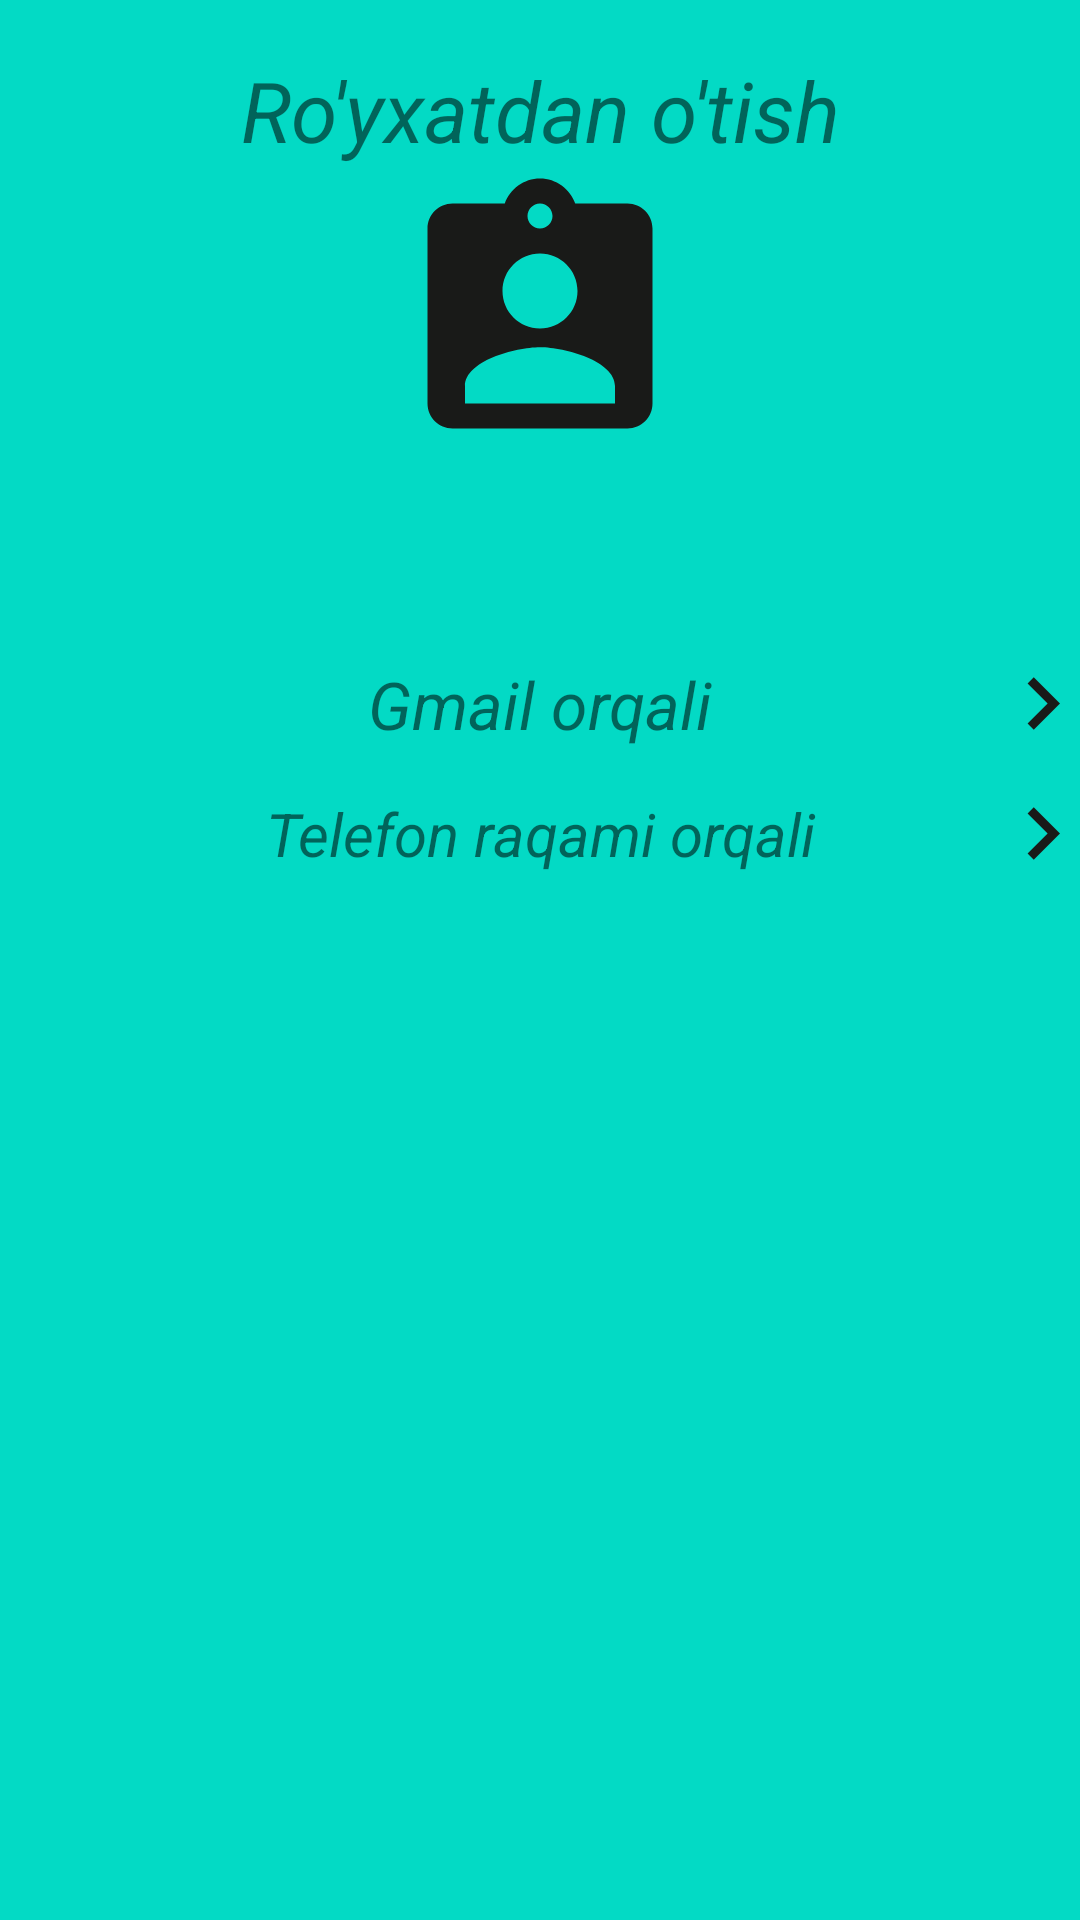

Screen size 1080×1920. Icon name, then its center in pixels as (x=x, y=y):
assignment ind: (x=540, y=303)
